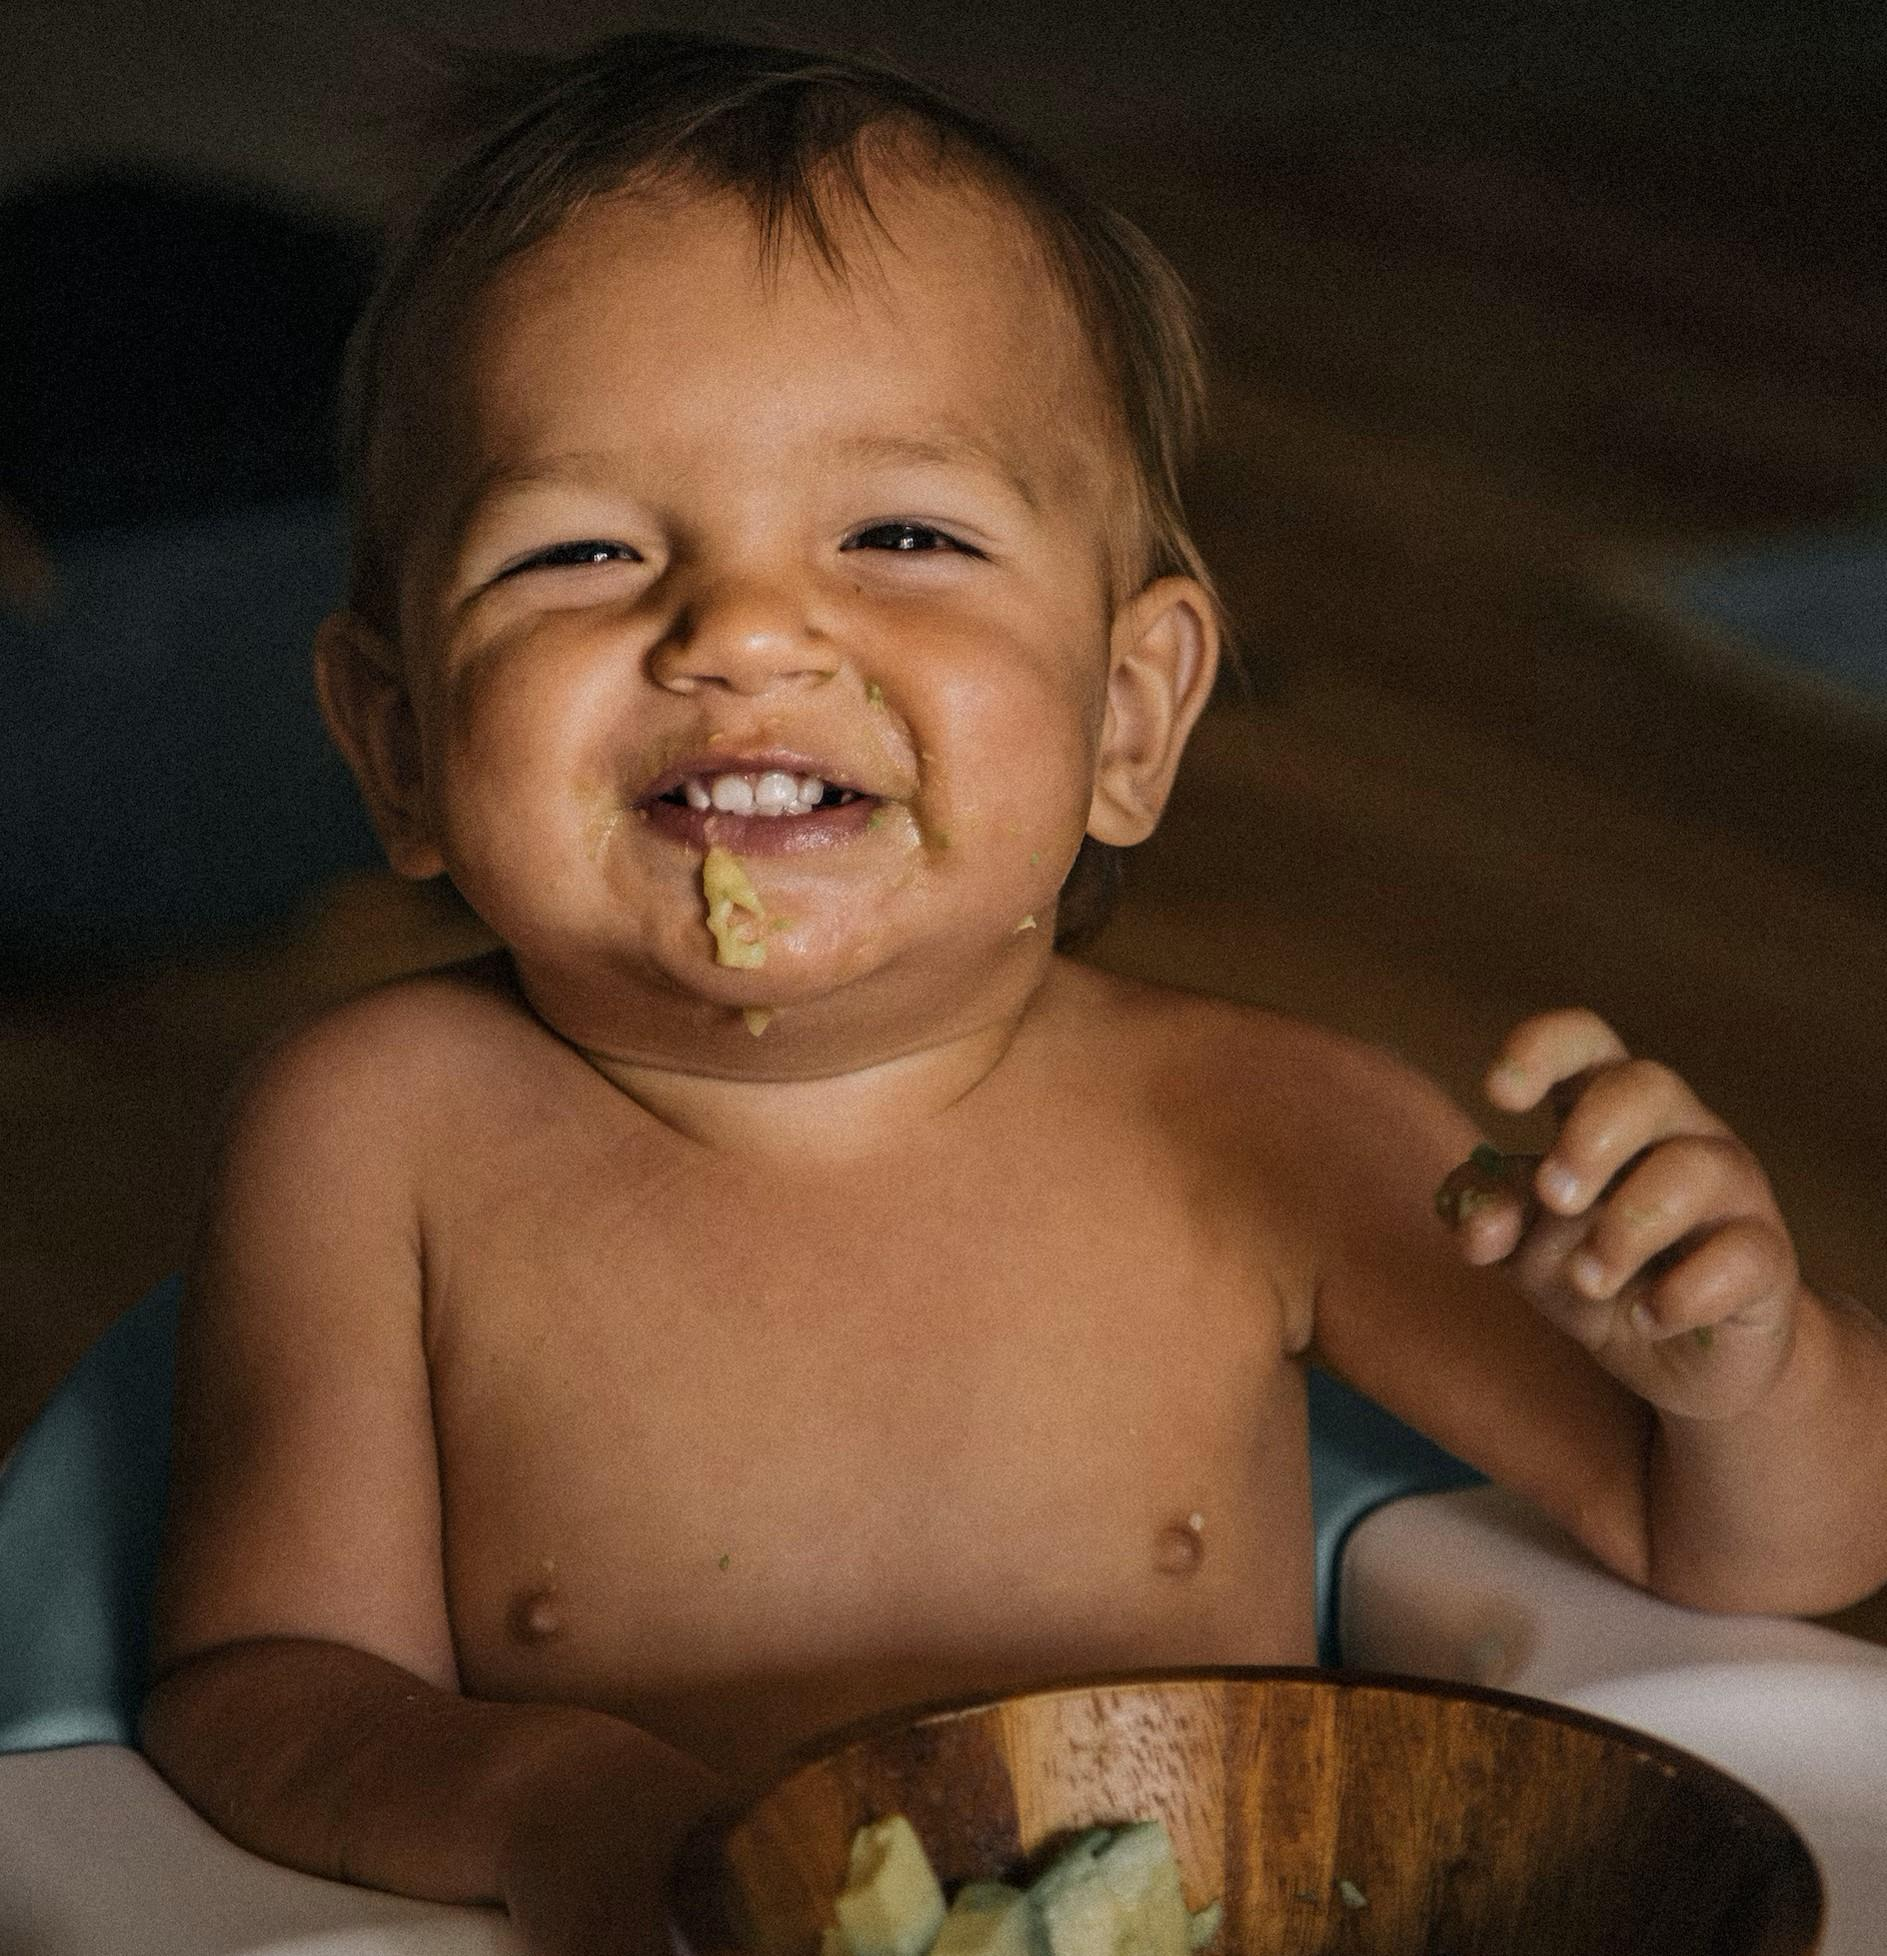Healthy: (321, 133, 1216, 1088)
